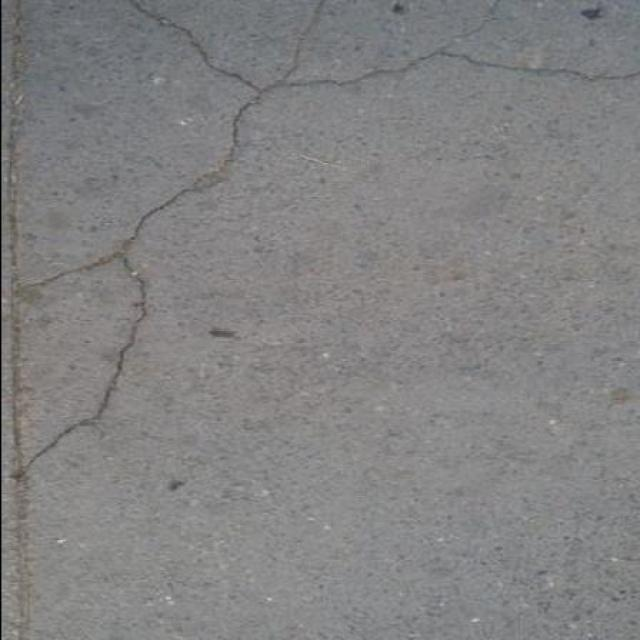Crack: (1, 0, 638, 625)
